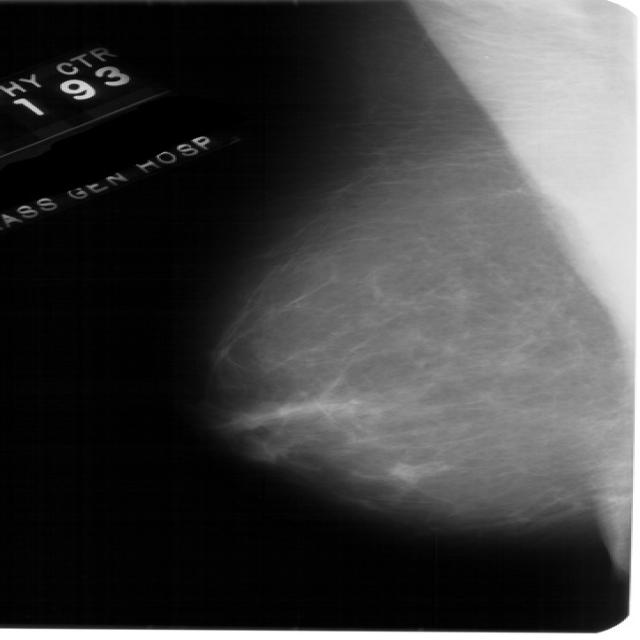tumour: (389, 460, 428, 482)
